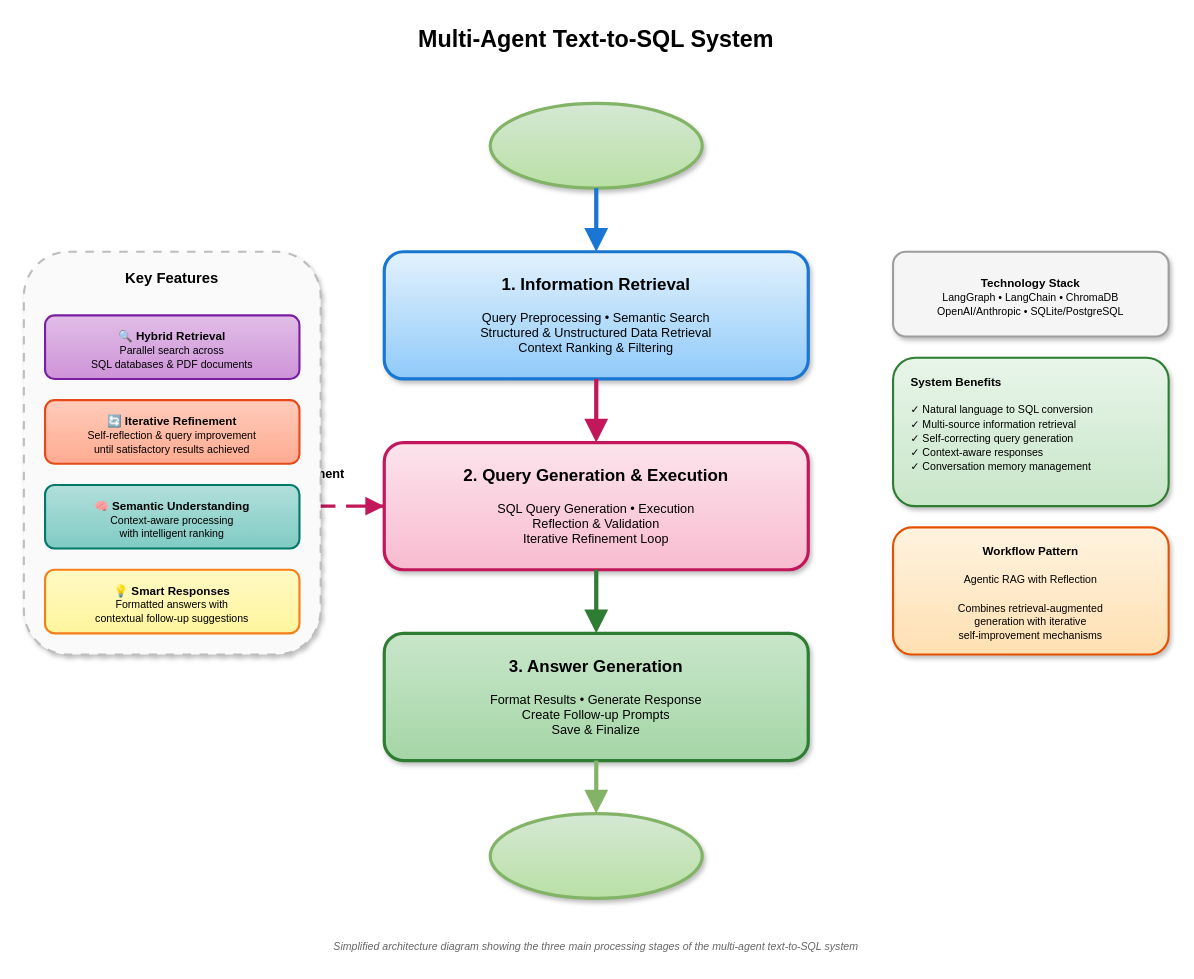
Some shapes in this 1194 by 979 pixel diagram are drawn without their labels. The centre of each missing label's shape, as x and y in pixels:
Final Answer: the point at 597,857
User Query: the point at 597,147
